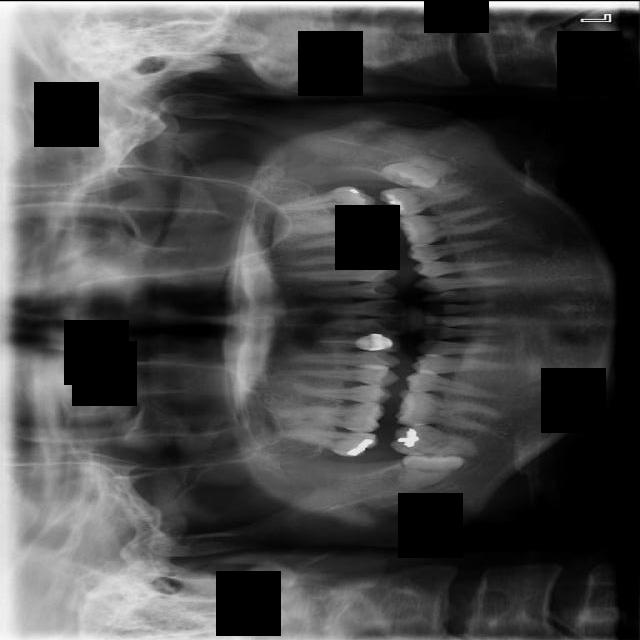52: (376, 173, 431, 228), (388, 415, 440, 462), (327, 431, 379, 456), (328, 185, 377, 209), (366, 332, 401, 353)
73: (313, 327, 367, 350), (564, 61, 584, 63)
BioHorizons Implant: (270, 184, 377, 213)
Biomet 3i Implant: (379, 147, 455, 191)
Blue Sky Bio Implant: (377, 181, 471, 218)
Caries: (263, 420, 379, 459)
Implant: (389, 421, 477, 458)
Keystone Dental Implant: (397, 450, 465, 495)
